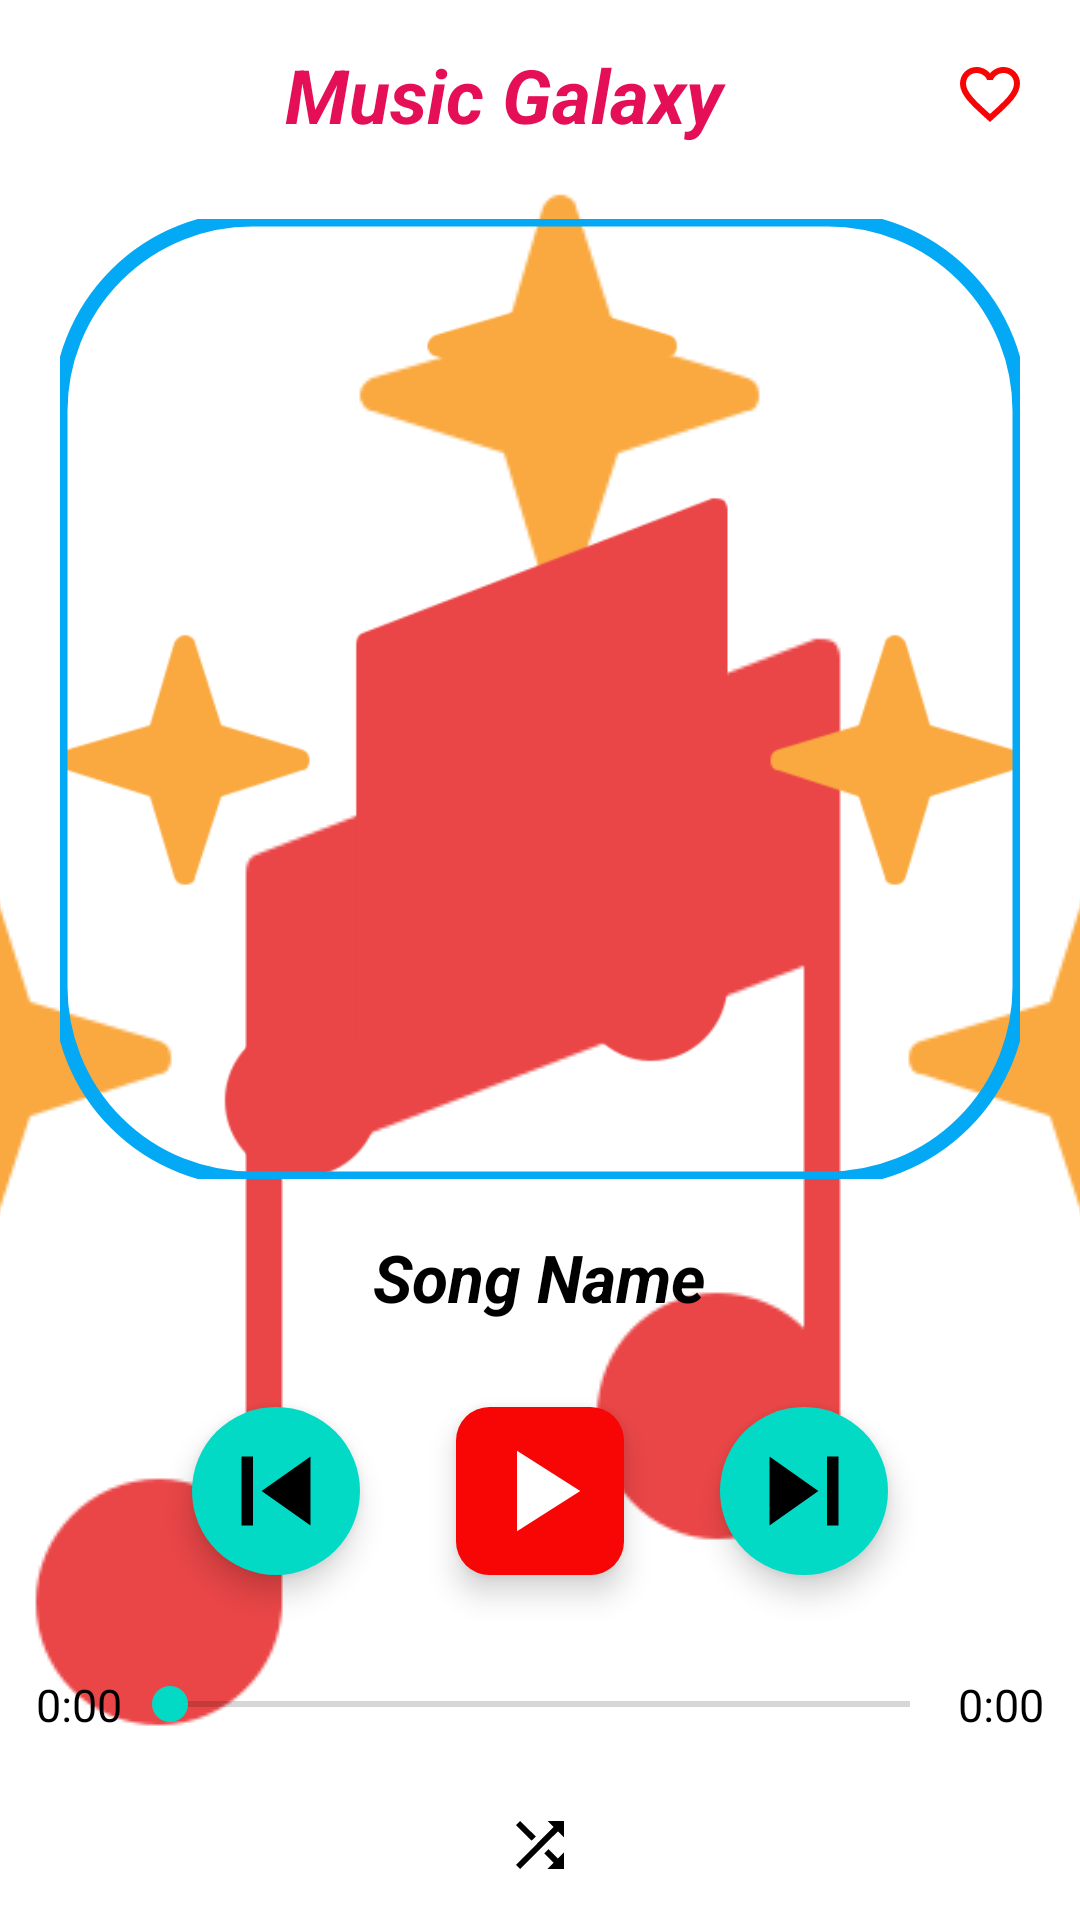

Icons on this 1080px×1920px Android screen, each with the point to tap as [x,y]:
Favorites: [990,94]
next btn: [804,1491]
prev btn: [276,1491]
shuffle: [540,1845]
